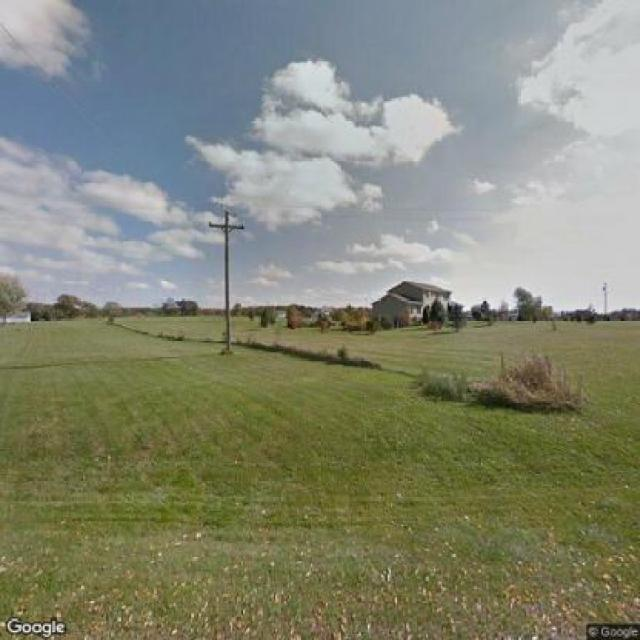pole: (199, 202, 256, 353)
